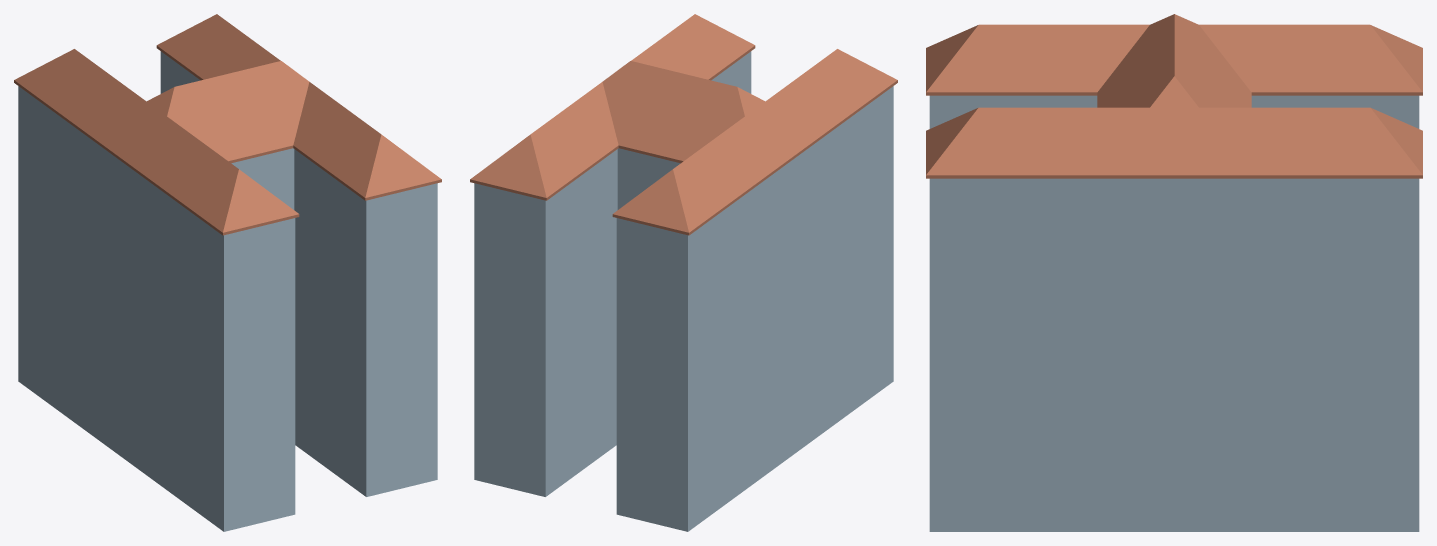
File: building.glb
The picture shows the model from 3 angles, left to right: view 1: azimuth 30°, elevation 25°; view 2: azimuth 150°, elevation 25°; view 3: azimuth 270°, elevation 25°; orthographic projection. The views are drawn at different scales.
Parts seen in each view (by area): view 1: A07; view 2: A07; view 3: A07.
Part boxes in pixels (x1=…): A07: x1=14, y1=14, x2=441, y2=531; A07: x1=470, y1=14, x2=897, y2=531; A07: x1=926, y1=14, x2=1422, y2=531.
Bounding box in the file's own units: 12.3 × 19.15 × 20.3.
